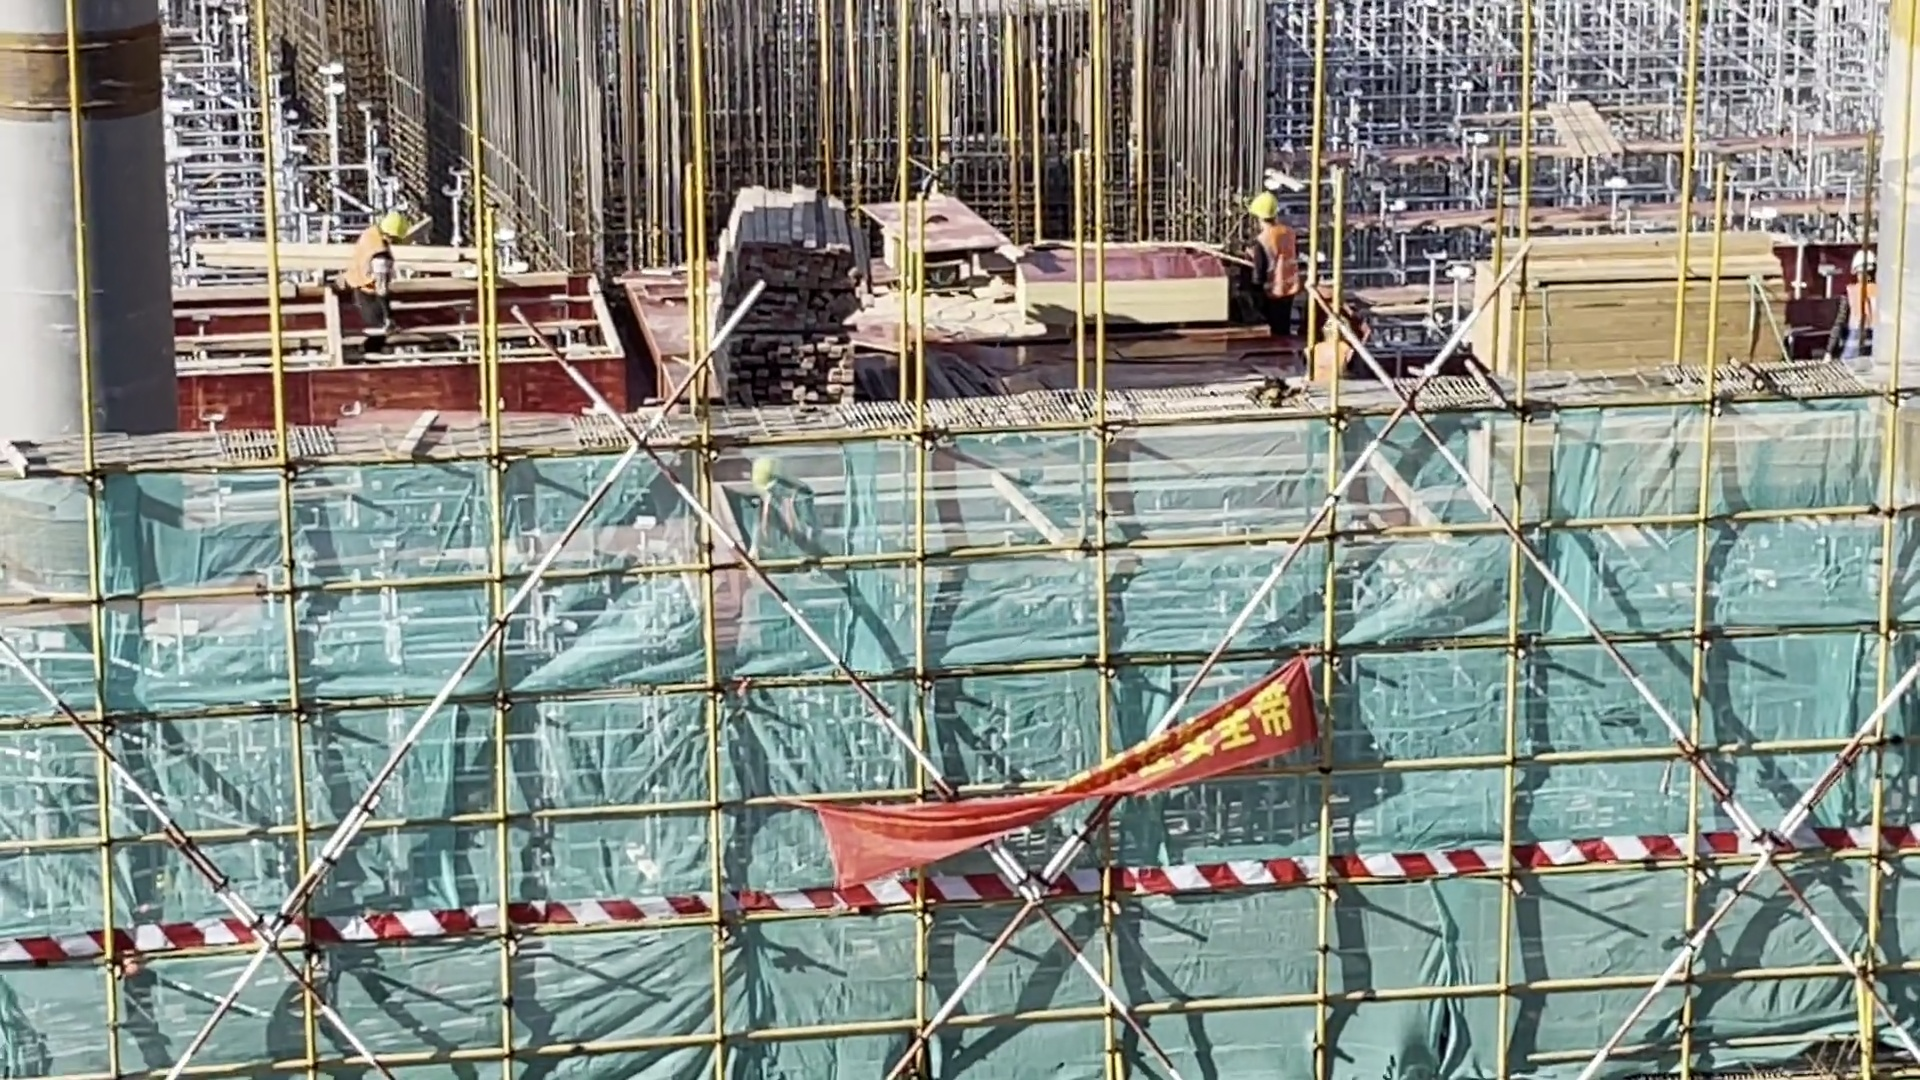helmet: (1245, 187, 1288, 227), (1844, 243, 1881, 283), (374, 208, 411, 239)
person: (1222, 187, 1325, 343), (334, 202, 419, 348), (1819, 240, 1889, 356)
slogan: (799, 642, 1341, 902)
vest: (1248, 222, 1306, 300), (1841, 276, 1884, 360), (347, 224, 395, 298)
wood: (1463, 213, 1797, 395), (710, 168, 885, 419)
